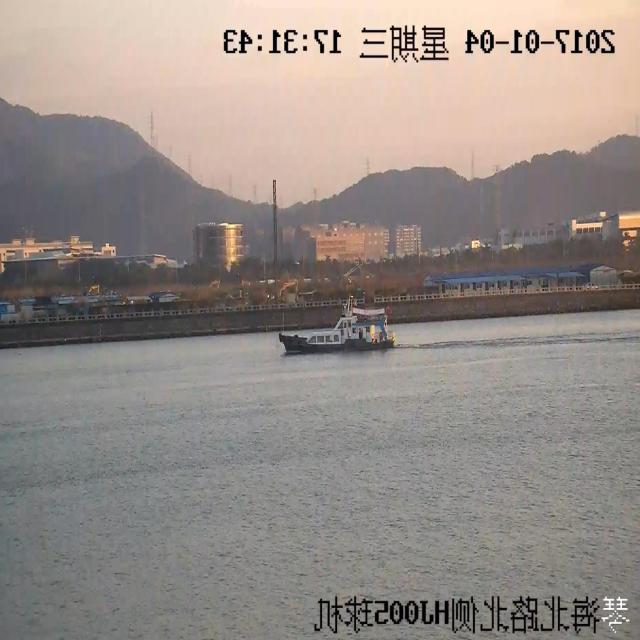cargoship: (281, 297, 403, 357)
